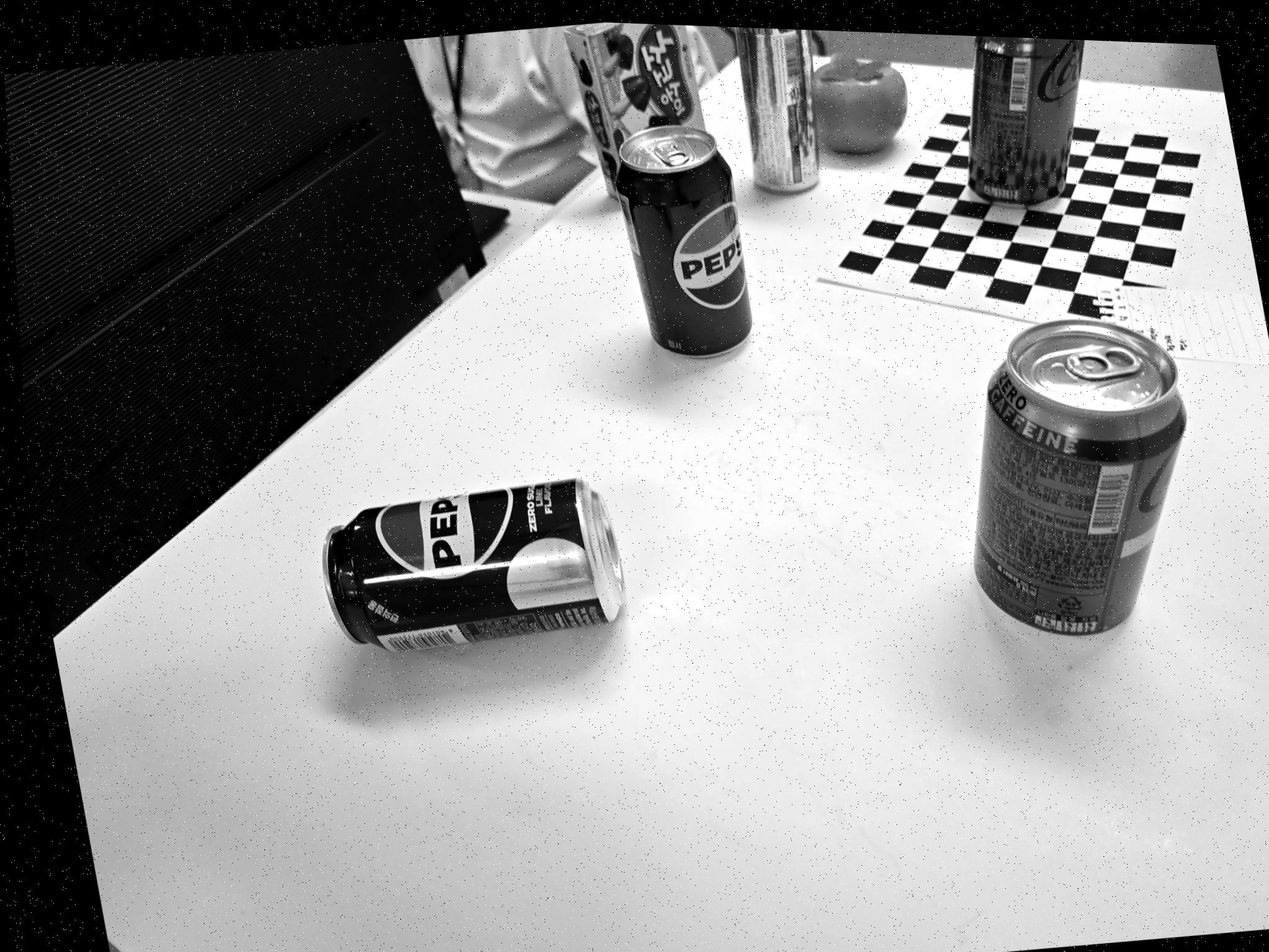can_coke_decaf: (972, 320, 1187, 638)
can_coke_zero: (965, 36, 1083, 202)
can_pepsi: (612, 126, 751, 352)
can_pepsi_zero: (326, 478, 630, 656)
